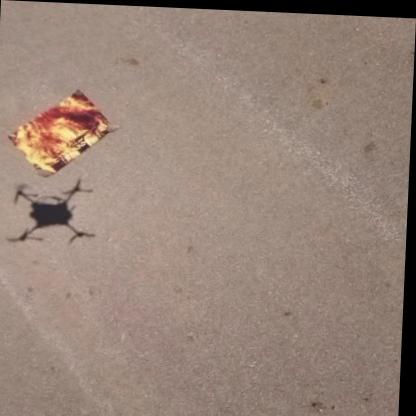fire-poster: (4, 85, 122, 180)
